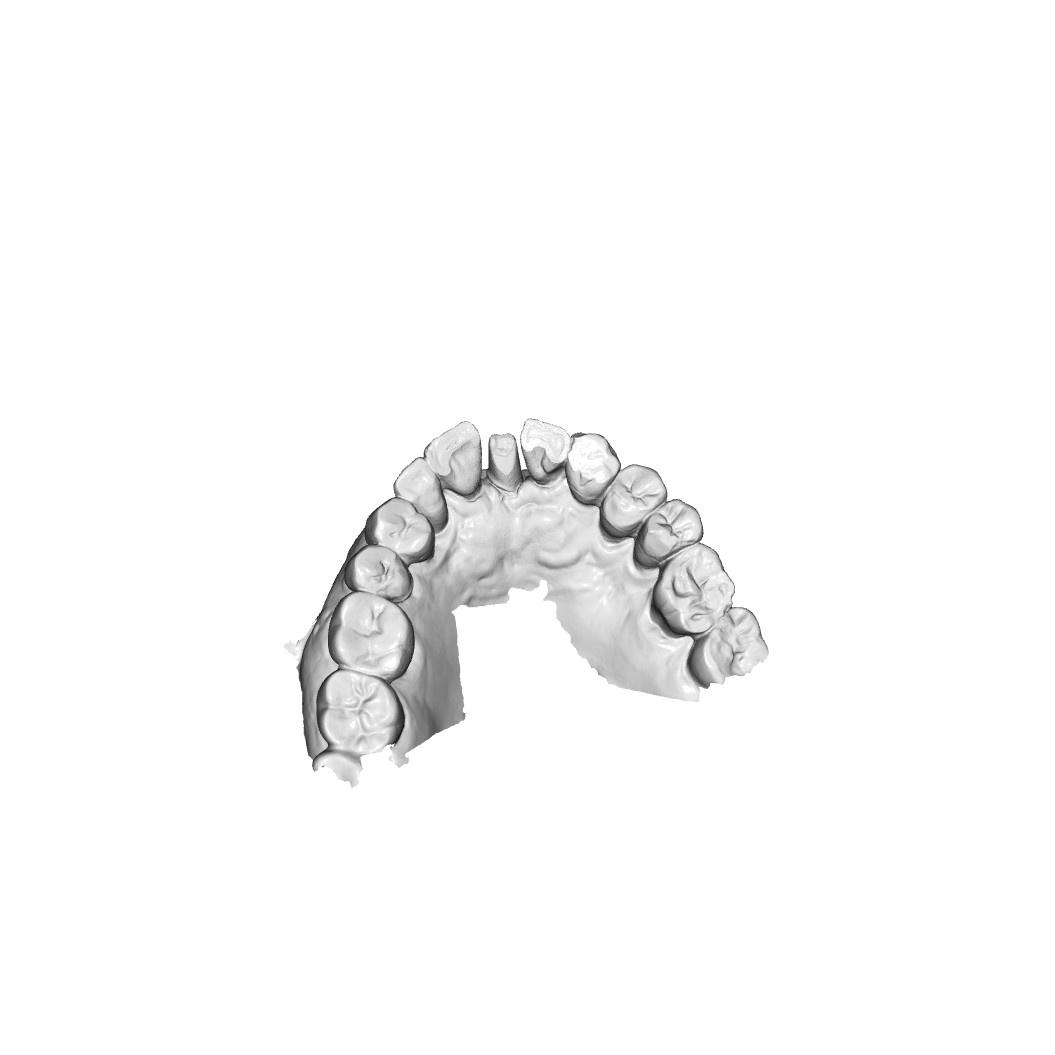canine: (394, 464, 448, 525), (569, 431, 615, 492)
crown: (485, 431, 522, 486)
incisor: (425, 423, 485, 494), (520, 416, 566, 478)
molar: (319, 668, 409, 751), (326, 591, 412, 677), (659, 545, 734, 632)
premolar: (602, 465, 666, 527), (641, 504, 699, 559), (351, 546, 411, 598), (373, 498, 430, 551)
